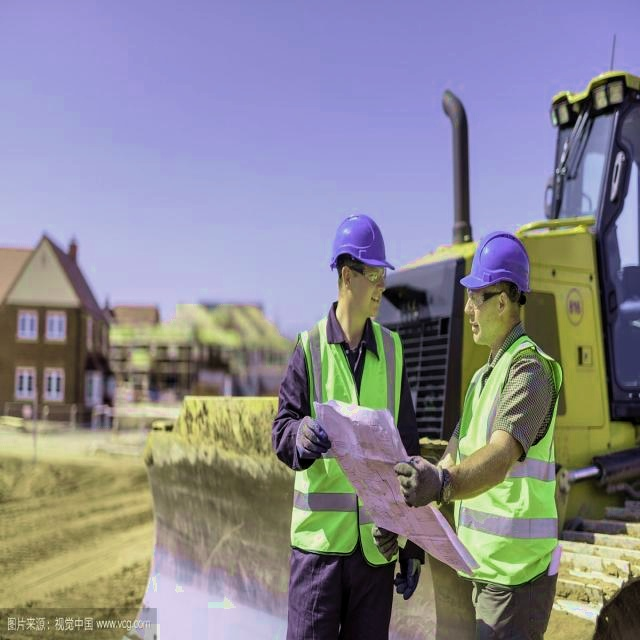Con_Casco: (463, 233, 532, 342), (332, 215, 395, 311)
Con_Chaleco: (452, 343, 562, 580), (293, 319, 403, 554)
